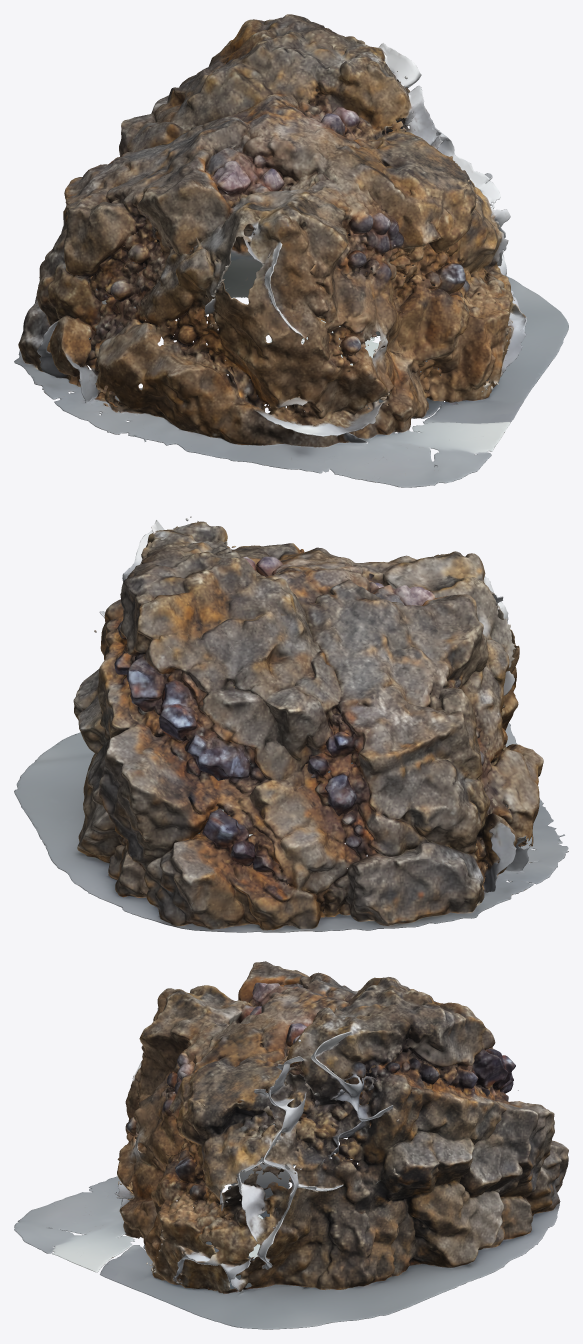
The model's file is RESOURCE-GreenlandsIronVein-01.glb.
3 renders of one model, top to bottom at view 1: azimuth 30°, elevation 25°; view 2: azimuth 150°, elevation 25°; view 3: azimuth 270°, elevation 25°, orthographic. The views are drawn at different scales.
Parts seen in each view (by area): view 1: Art scale and orientation; view 2: Art scale and orientation; view 3: Art scale and orientation.
Part boxes in pixels (bbox=[...]): Art scale and orientation: bbox=[14, 14, 568, 487]; Art scale and orientation: bbox=[14, 516, 568, 932]; Art scale and orientation: bbox=[14, 961, 568, 1329].
Bounding box in the file's own units: 0.8518 × 0.4888 × 0.9505.
Materials: 1 (1 with a texture image).
